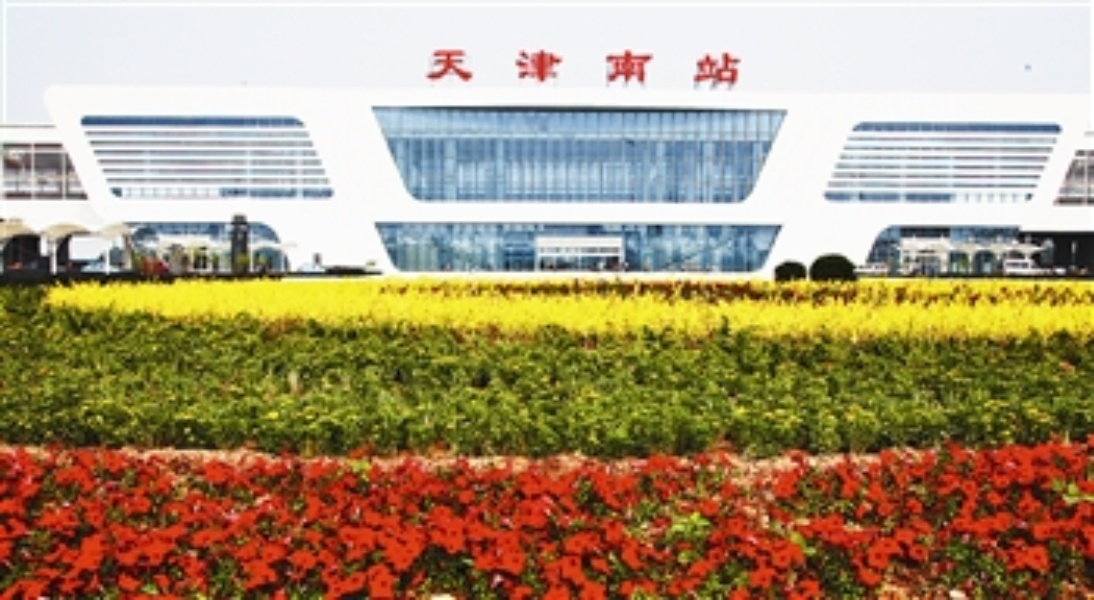text: (433, 44, 448, 88), (449, 44, 464, 88), (465, 44, 480, 88), (481, 44, 496, 88), (497, 44, 512, 88), (513, 44, 528, 88), (529, 44, 544, 88), (545, 44, 560, 88), (561, 44, 576, 88), (577, 44, 592, 88), (593, 44, 608, 88), (609, 44, 624, 88), (625, 44, 640, 88), (641, 44, 656, 88), (657, 44, 672, 88), (673, 44, 688, 88), (689, 44, 704, 88), (705, 44, 720, 88), (721, 44, 736, 88), (737, 44, 748, 88), (422, 44, 432, 88)
